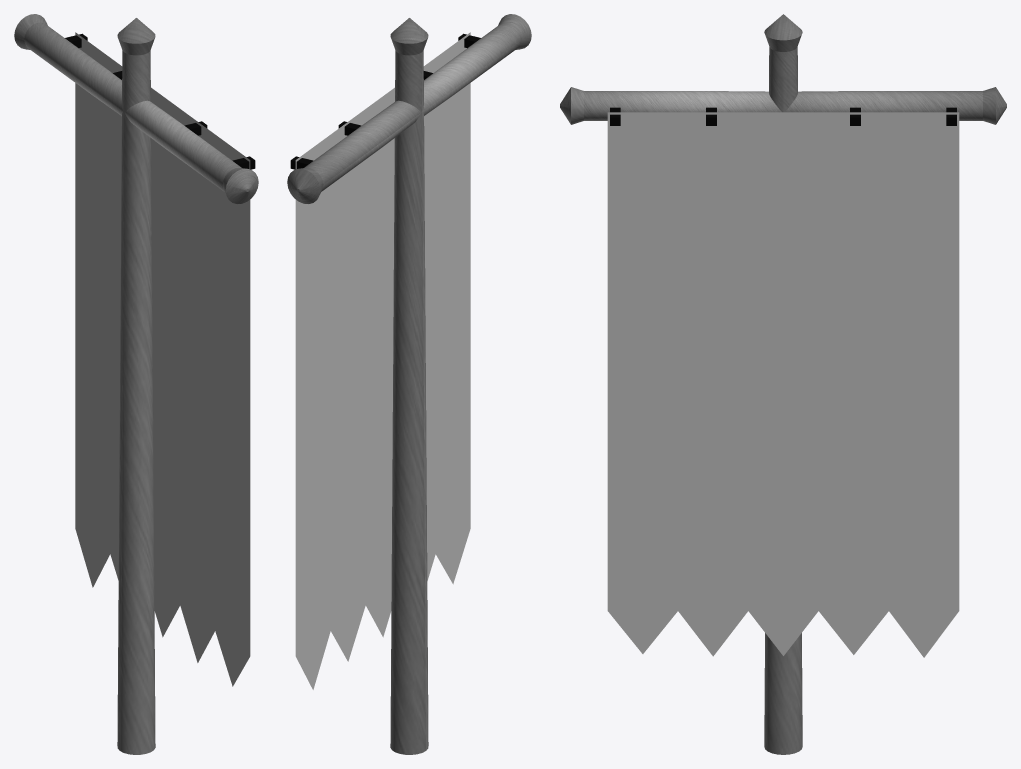
Rendered from banner.fbx.
The picture shows the model from 3 angles, left to right: view 1: azimuth 30°, elevation 25°; view 2: azimuth 150°, elevation 25°; view 3: azimuth 270°, elevation 25°; orthographic projection.
Visible parts, largest first — view 1: flag_front_side, banner, flag_back_side; view 2: flag_front_side, banner, flag_back_side; view 3: flag_back_side, flag_front_side, banner.
Part boxes in pixels (<box>): flag_front_side: <box>75,96,250,686</box>; banner: <box>14,14,258,754</box>; flag_back_side: <box>75,32,161,331</box>; flag_front_side: <box>295,32,470,689</box>; banner: <box>287,14,531,754</box>; flag_back_side: <box>295,97,382,463</box>; flag_back_side: <box>607,112,959,657</box>; flag_front_side: <box>770,112,959,414</box>; banner: <box>560,14,1006,754</box>.
Size of the model in its own units: 46.54 by 663 by 367.
